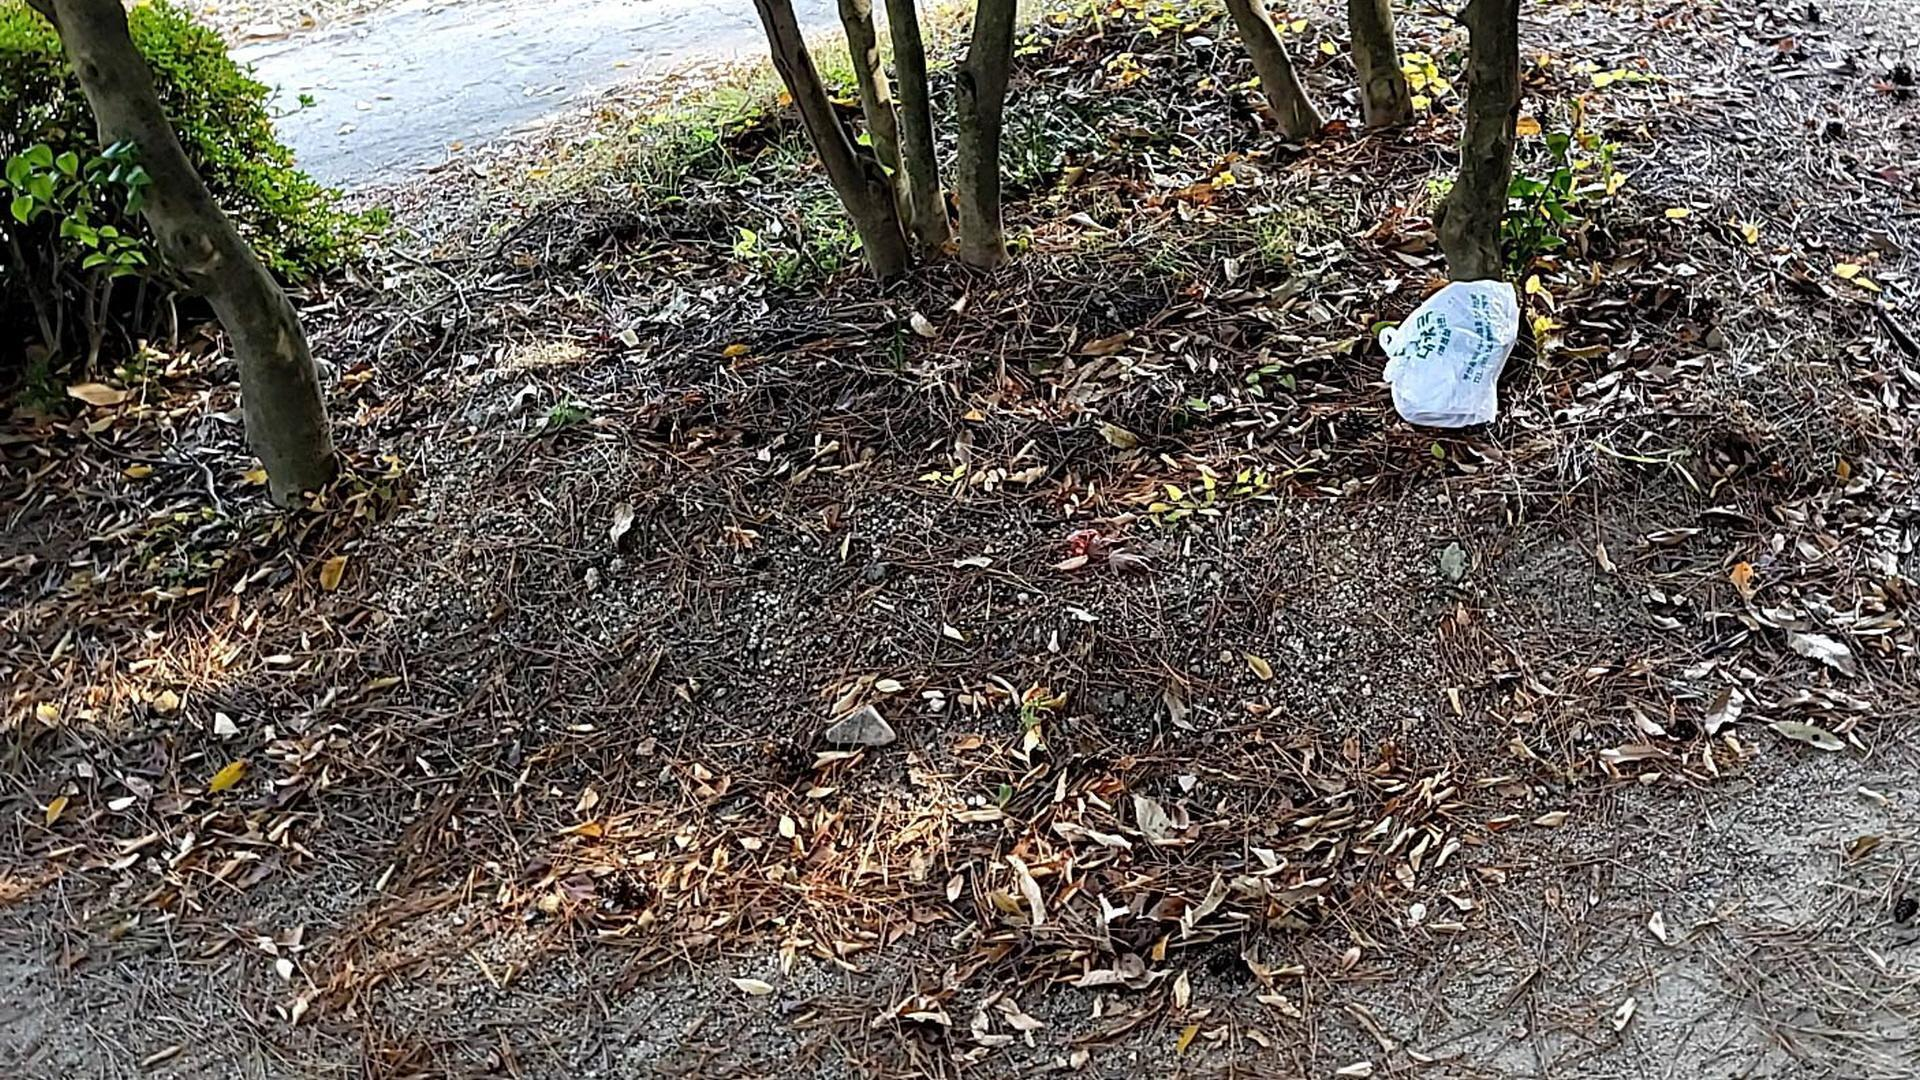white_bag: (1369, 273, 1514, 436)
